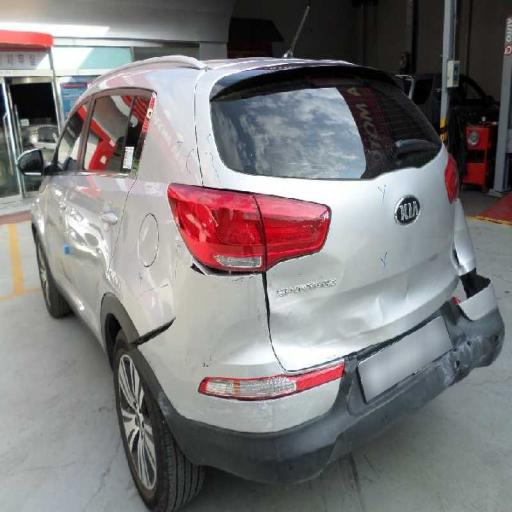dent: (241, 229, 422, 368), (58, 188, 178, 340)
